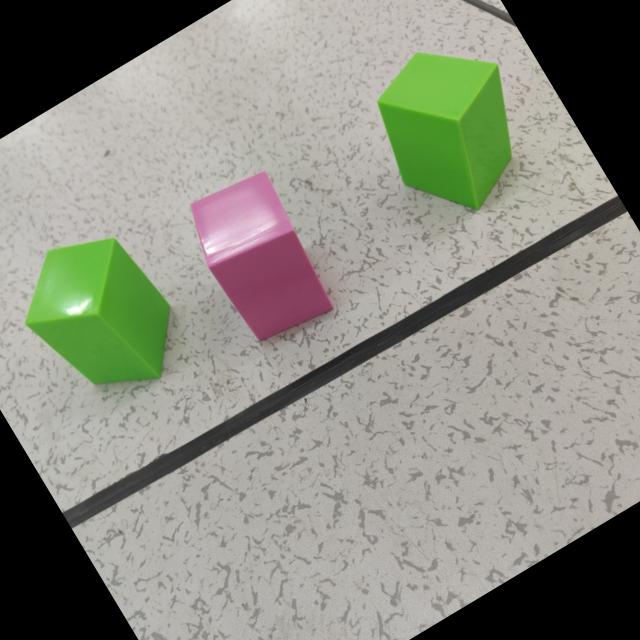green: (377, 52, 514, 213), (25, 238, 173, 386)
pink: (191, 172, 336, 344)
